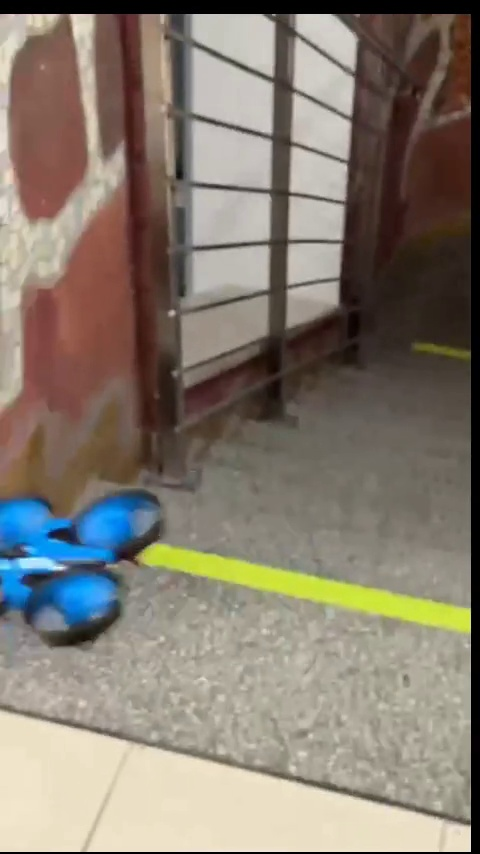drone: (0, 487, 164, 640)
